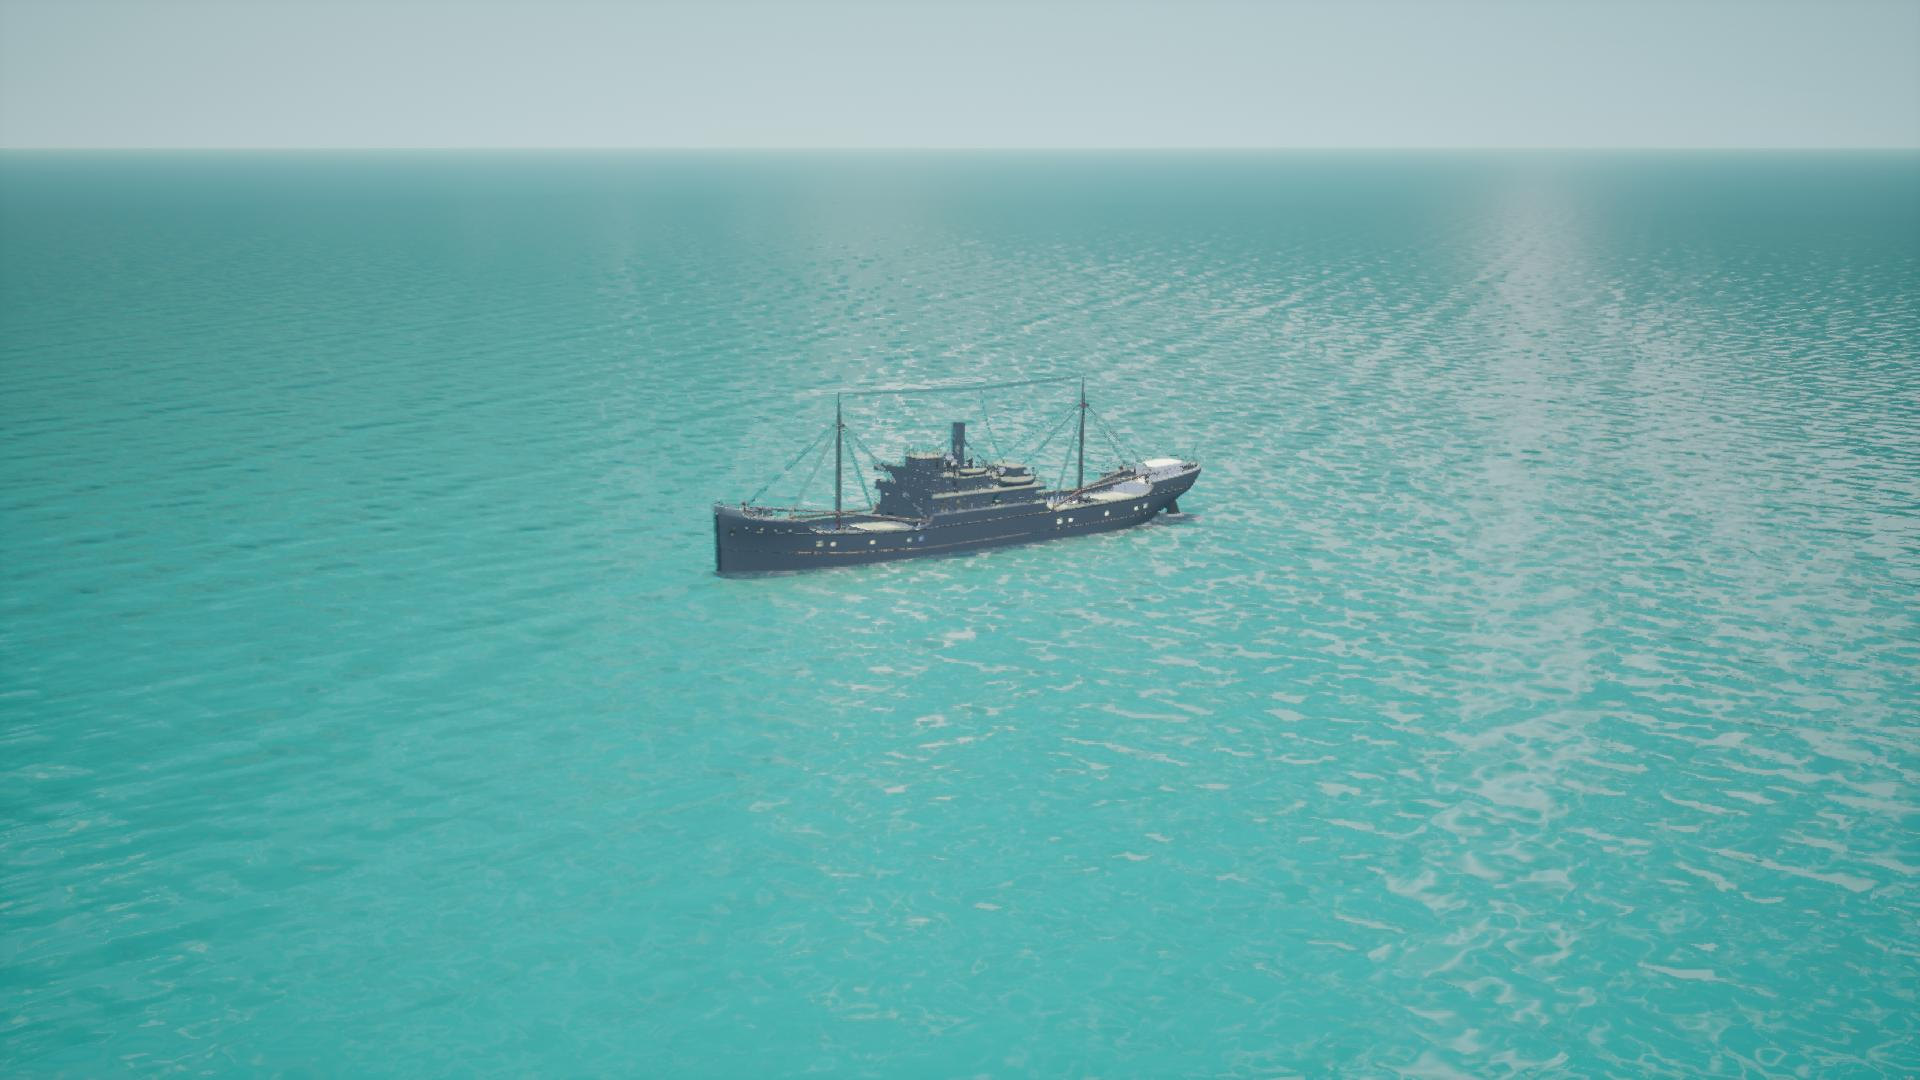Fishing Boat: (709, 389, 1199, 580)
